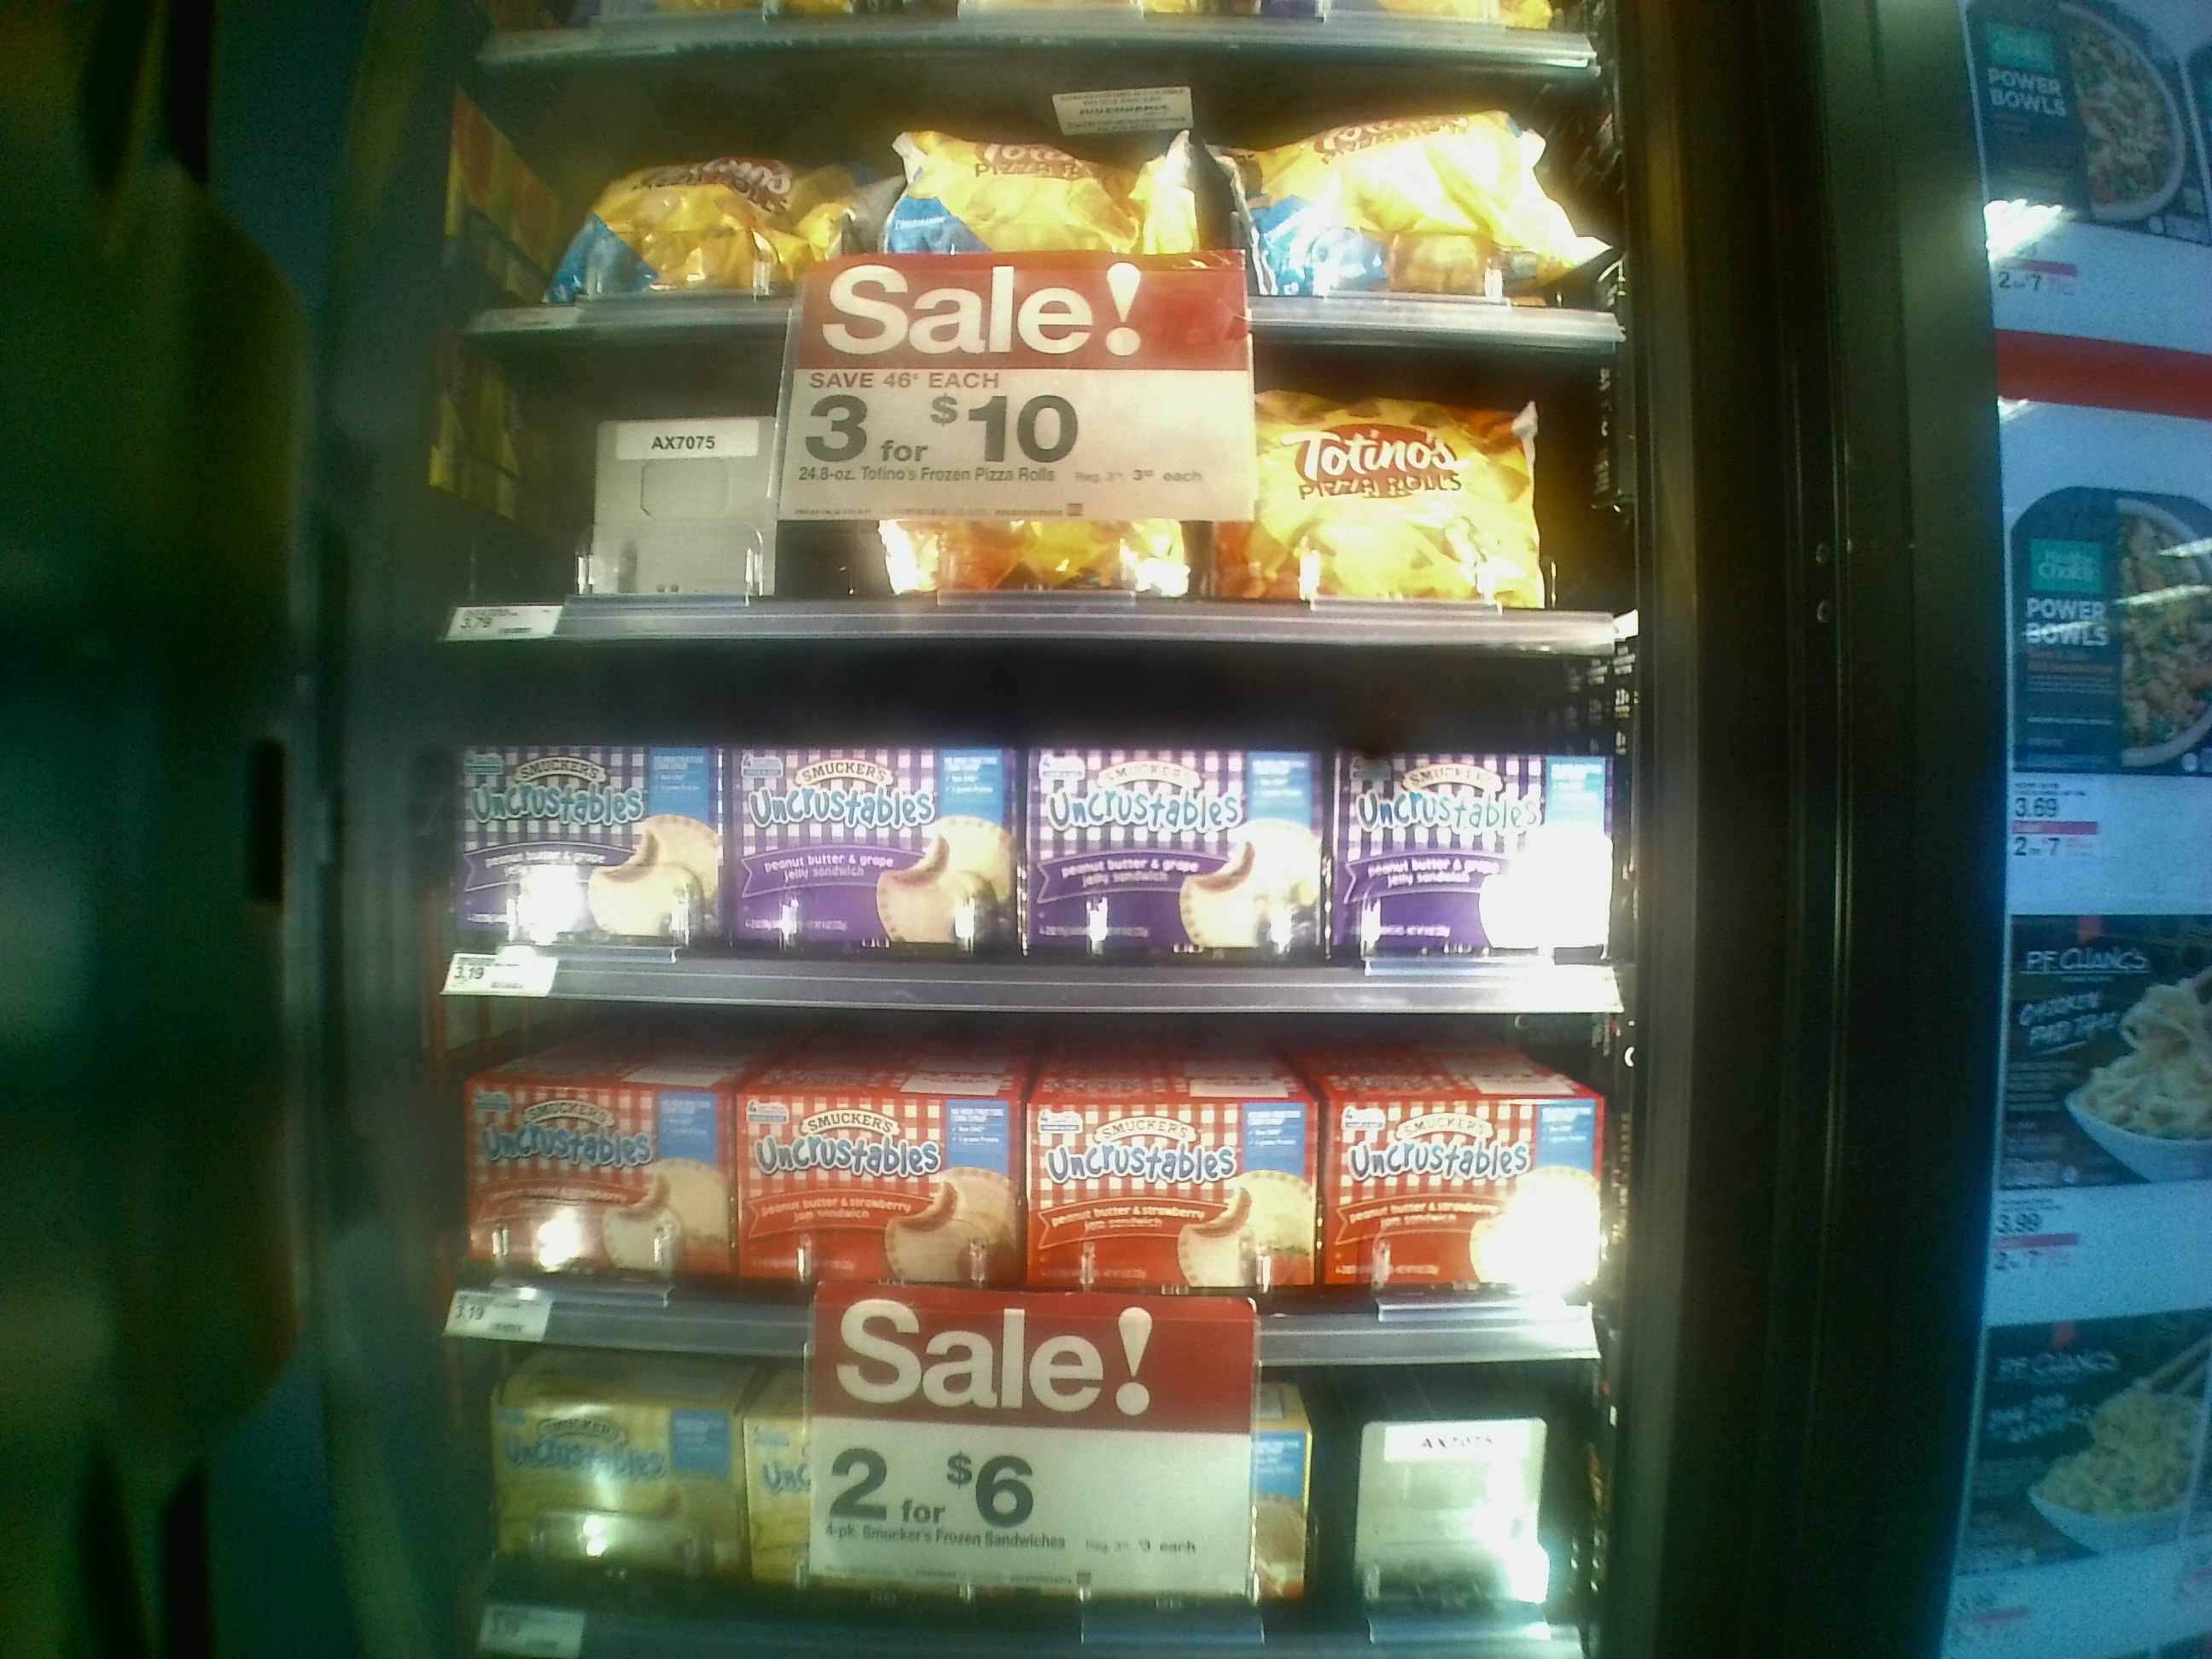shelf: (409, 636, 1641, 1014), (408, 1004, 1615, 1363), (427, 338, 1634, 633)
